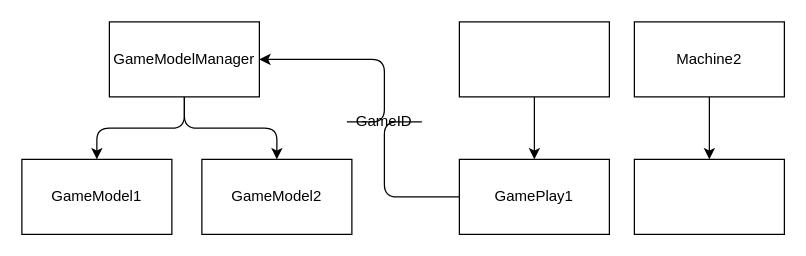
Some shapes in this 806 by 256 pixel diagram are drawn without their labels. The shapes that lost their labels are listed below. From the top down, each one's centre as x and y in pixels, then its label:
the point at 533,59: Machine1
the point at 708,196: GamePlay2
